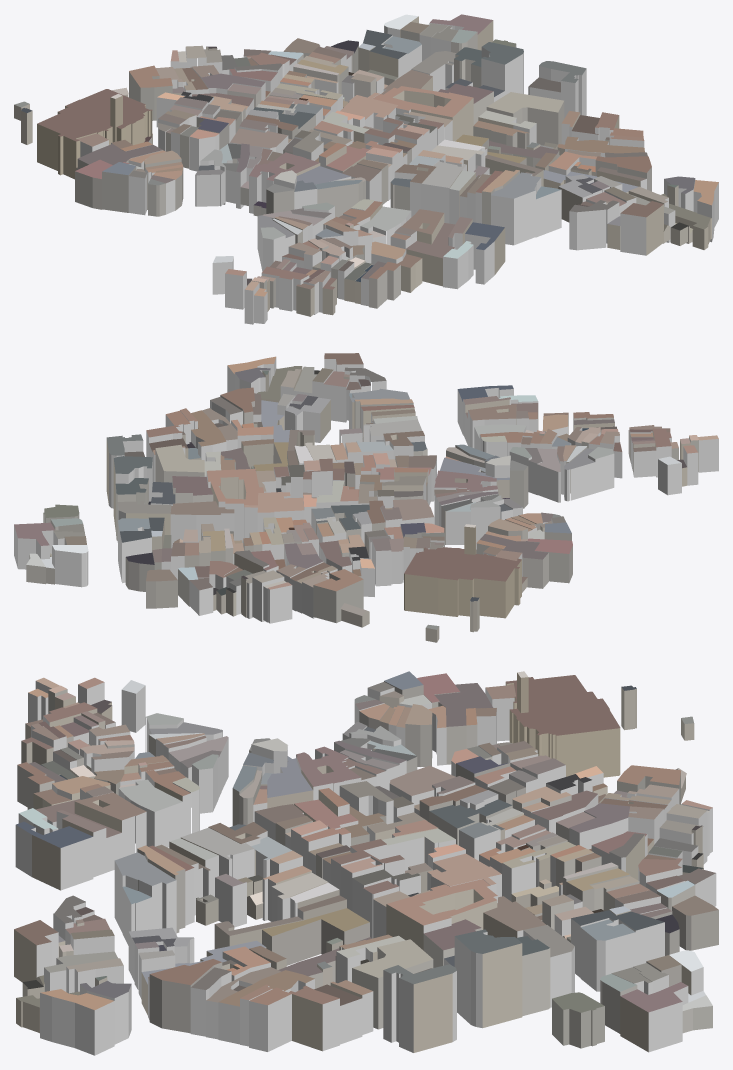
3 renders of one model, top to bottom at view 1: azimuth 30°, elevation 25°; view 2: azimuth 150°, elevation 25°; view 3: azimuth 270°, elevation 25°, orthographic. The views are drawn at different scales.
Visible parts, largest first — view 1: tuile; view 2: tuile; view 3: tuile.
Part boxes in pixels (bbox=[...]): tuile: bbox=[14, 14, 718, 324]; tuile: bbox=[14, 353, 718, 642]; tuile: bbox=[14, 671, 718, 1055].
Size of the model in its own units: 268 by 51.03 by 264.
